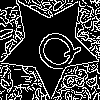Q: (25, 20, 84, 79)
